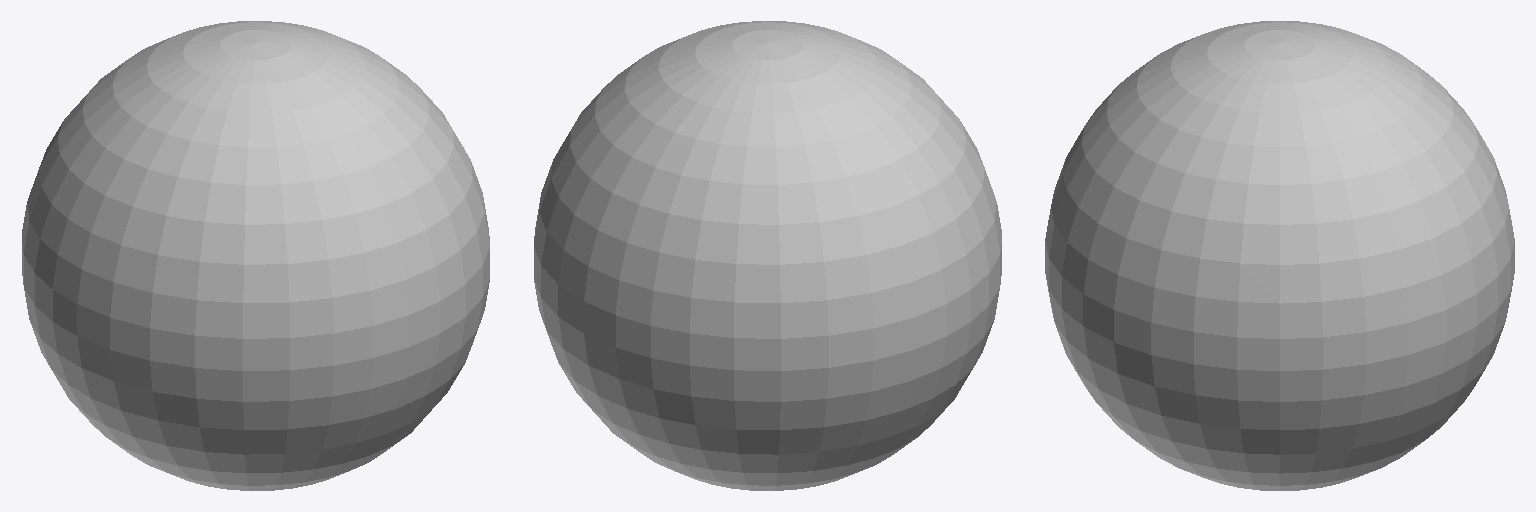
3 renders of one model, left to right at view 1: azimuth 30°, elevation 25°; view 2: azimuth 150°, elevation 25°; view 3: azimuth 270°, elevation 25°, orthographic.
Parts seen in each view (by area): view 1: SurfSphere; view 2: SurfSphere; view 3: SurfSphere.
Boxes of the visible parts, x1,y1,x2,y2 form: SurfSphere: [22, 21, 489, 490]; SurfSphere: [534, 21, 1001, 490]; SurfSphere: [1045, 21, 1514, 490].
Size of the model in its own units: 0.3989 by 0.4 by 0.3989.